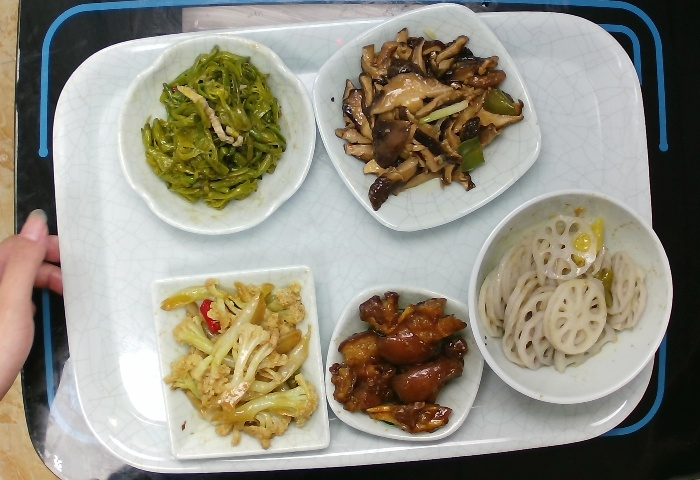JYsf-Ao_Yuan_Wan: (113, 31, 317, 237)
JYsf-Fan_Wan: (464, 185, 674, 407)
JYsf-Si_Fang_Die: (322, 281, 487, 443)
WCQzf-Da_Si_Fang_Die: (308, 1, 545, 234)
WCQzf-Ru_Ci_Si_Fang_Die: (148, 263, 334, 461)
